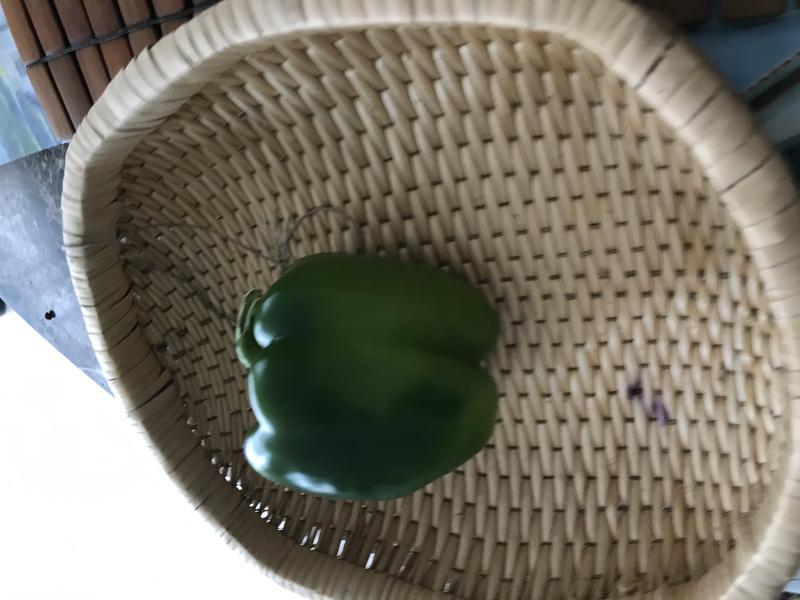green_pepper: (231, 246, 511, 509)
